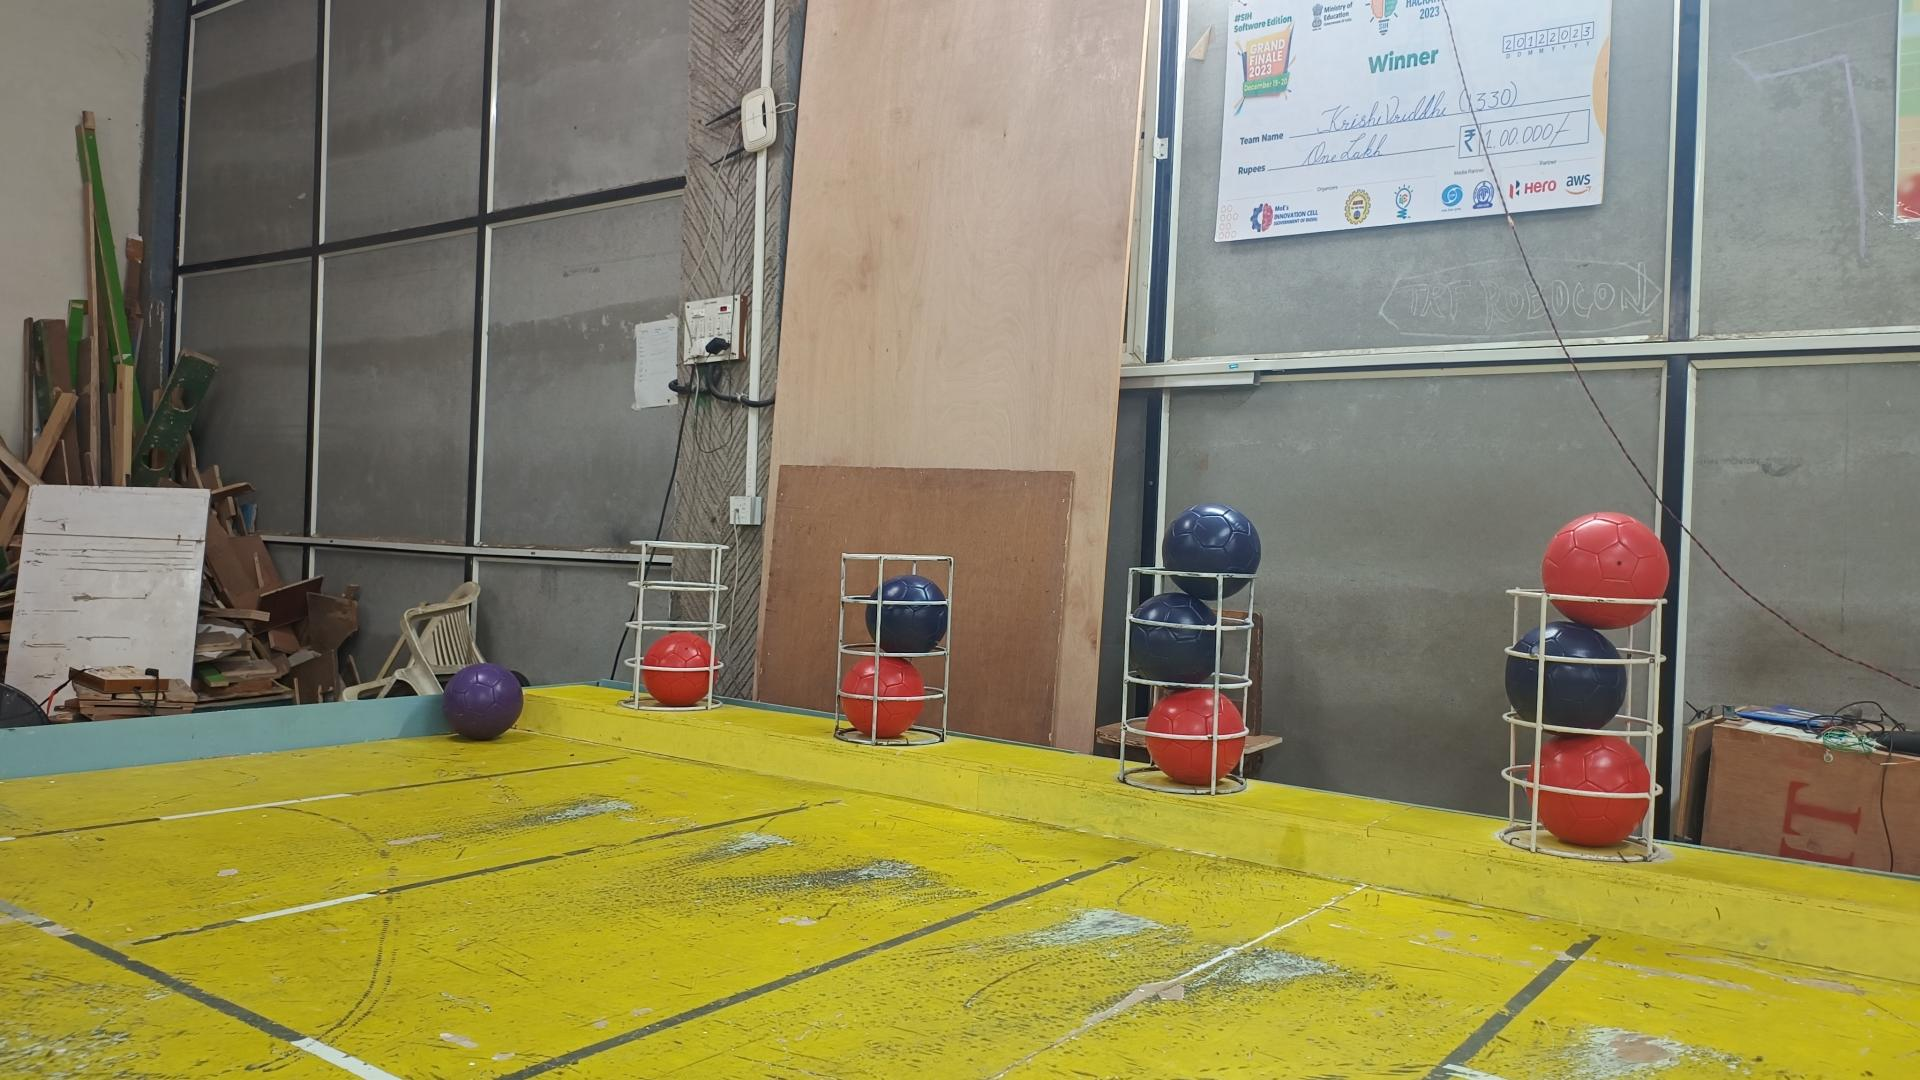dhoka: (1503, 618, 1627, 732), (1163, 502, 1261, 600), (1125, 592, 1222, 683), (866, 574, 948, 653)
laale: (1542, 514, 1668, 630), (1526, 735, 1650, 848), (1147, 686, 1245, 787), (840, 657, 926, 738), (641, 630, 716, 705)
